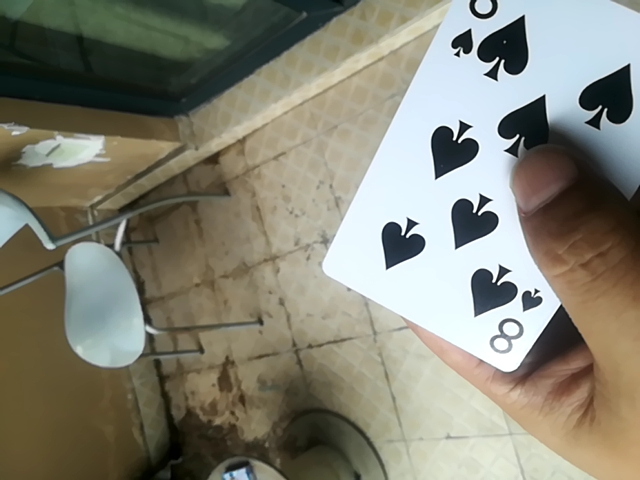ht 8: (316, 2, 631, 370)
